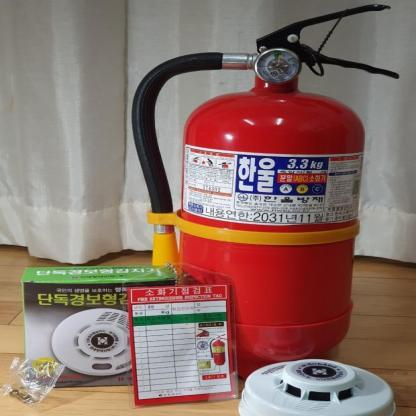Fire Extinguisher: (131, 1, 403, 378)
